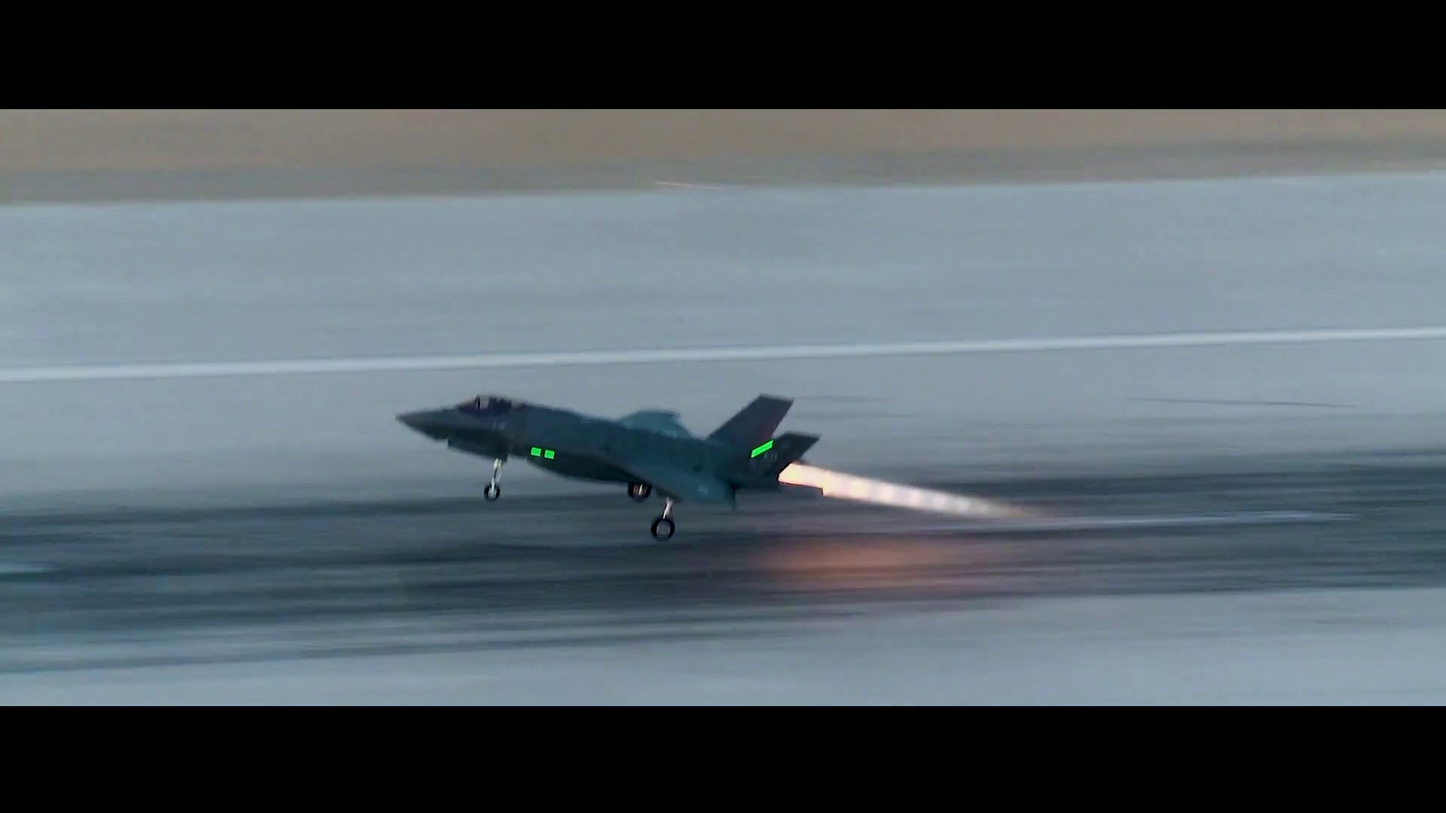F35: (395, 383, 828, 538)
